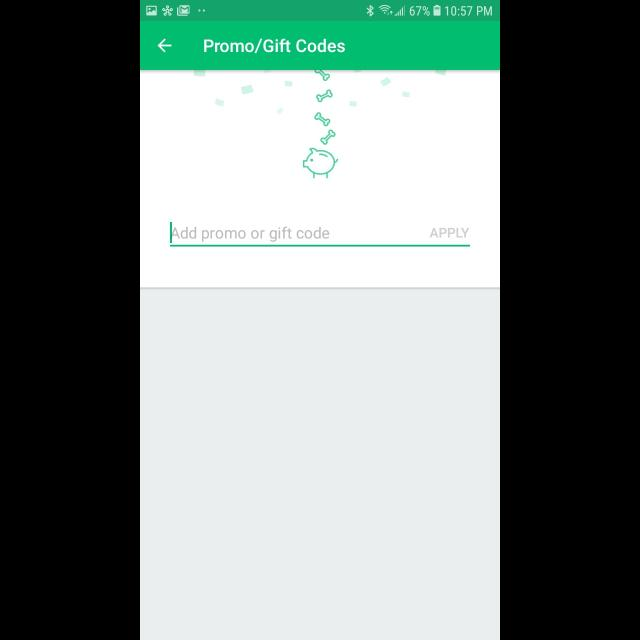icon: (158, 39, 172, 53)
image: (194, 70, 446, 180)
input: (170, 222, 470, 248)
text: (172, 226, 330, 242), (204, 38, 346, 54), (430, 228, 470, 238)
uppertaskbar: (140, 1, 500, 22)
